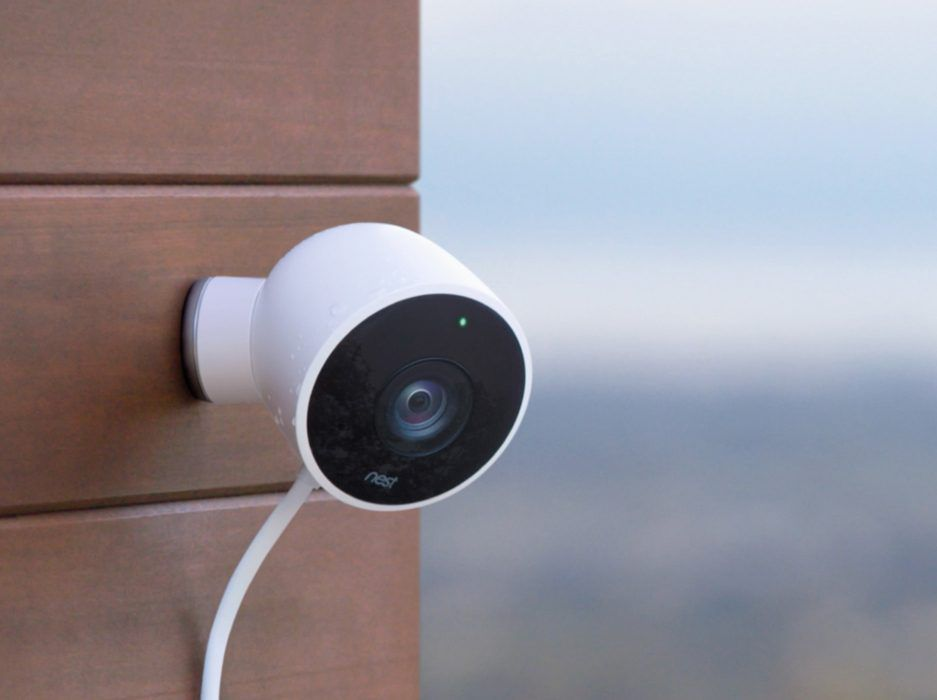Nest Cam: (190, 201, 551, 525)
